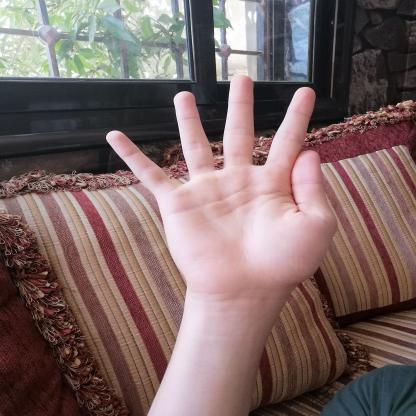SHEEN: (94, 67, 354, 312)
